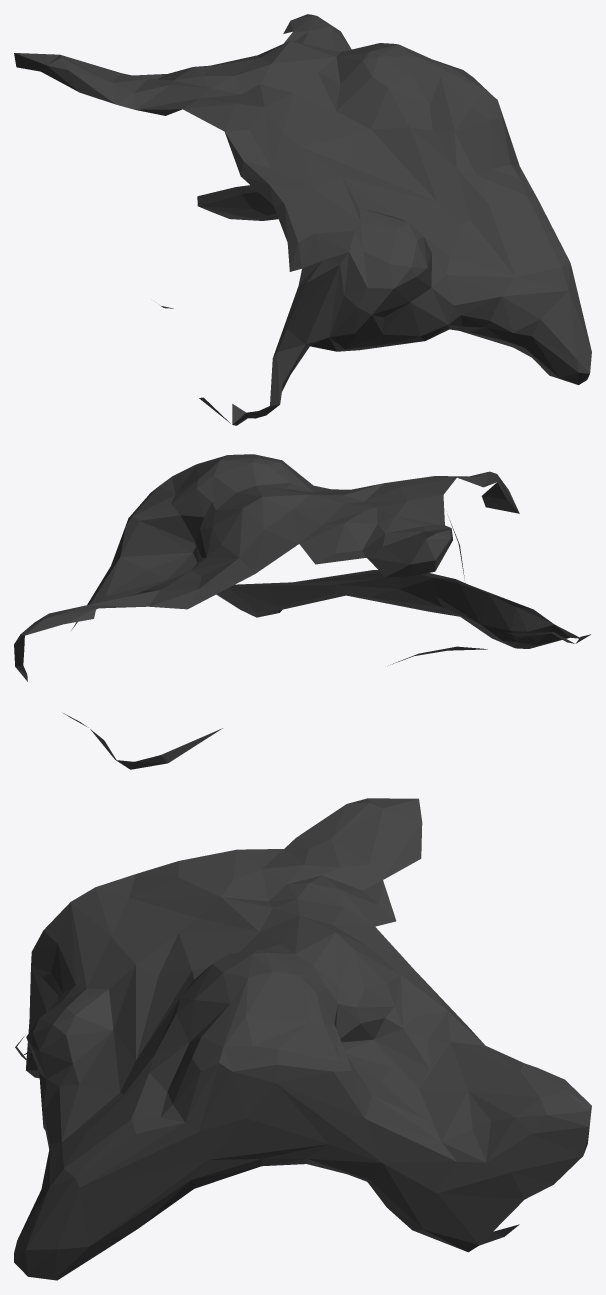
The model's file is caudal_pillar.glb.
3 views of the same model, one above another, from view 1: azimuth 30°, elevation 25°; view 2: azimuth 150°, elevation 25°; view 3: azimuth 270°, elevation 25° (orthographic). The views are drawn at different scales.
Parts seen in each view (by area): view 1: caudal_pillar; view 2: caudal_pillar; view 3: caudal_pillar.
Boxes of the visible parts, x1,y1,x2,y2 form: caudal_pillar: (14, 14, 591, 425); caudal_pillar: (14, 454, 590, 769); caudal_pillar: (14, 798, 591, 1280).
Size of the model in its own units: 0.607 by 0.4278 by 0.7461.
Materials: 1 (1 with a texture image).
